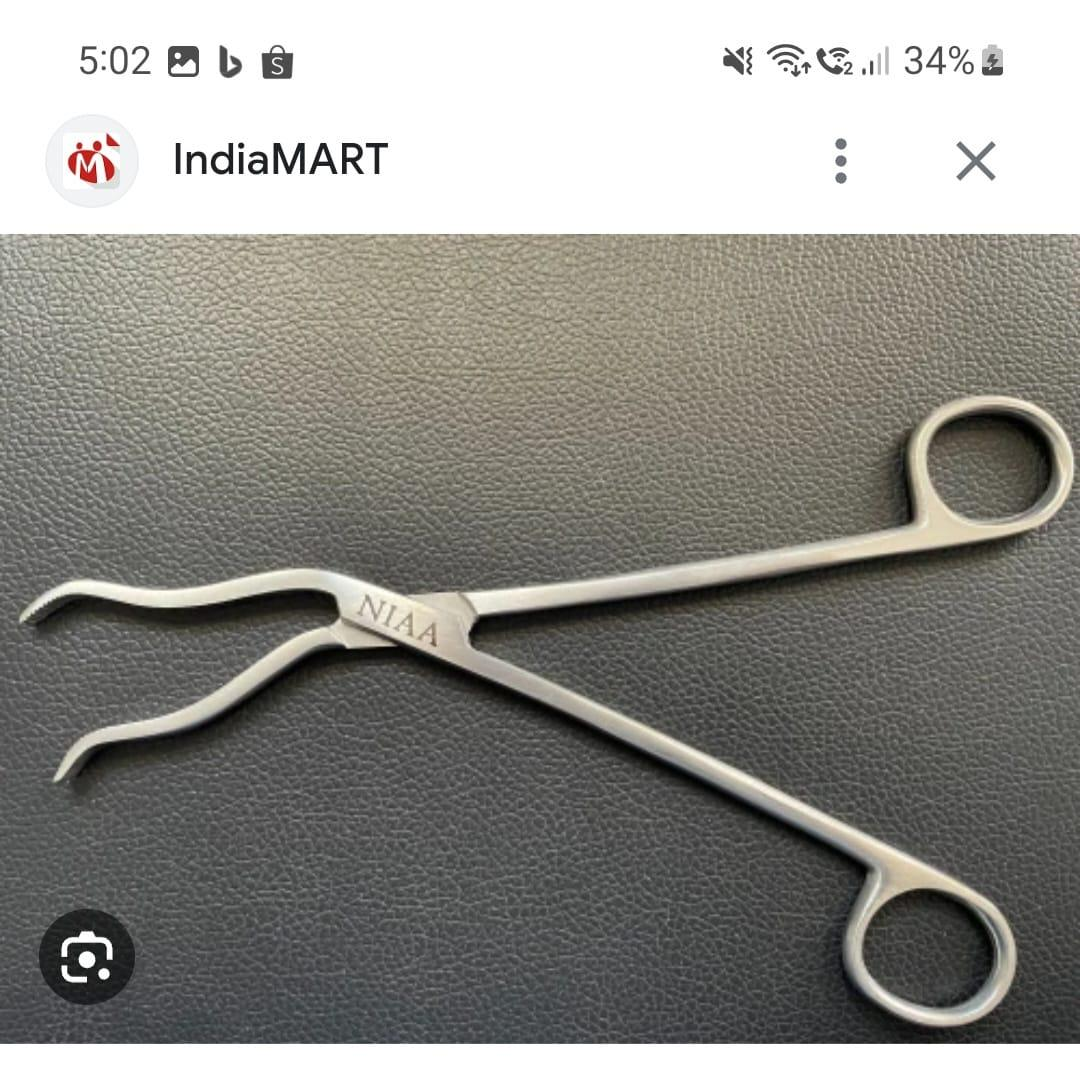Cheatle Forceps: (13, 393, 1073, 1023)
